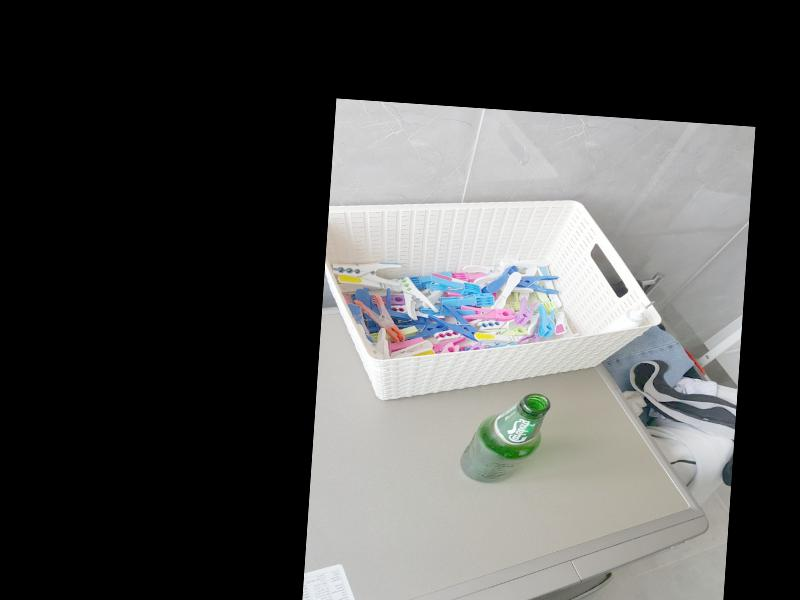Beer: (460, 390, 551, 488)
